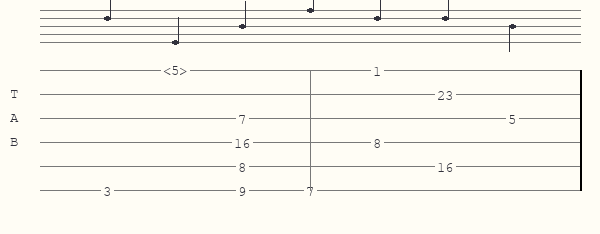1: (373, 64, 385, 77)
16: (234, 136, 254, 149), (437, 160, 457, 173)
23: (437, 88, 457, 101)
3: (103, 184, 115, 197)
5: (508, 112, 520, 125)
7: (238, 112, 250, 125), (306, 184, 318, 197)
8: (238, 160, 250, 173), (373, 136, 385, 149)
9: (238, 184, 250, 197)
harmonic: (163, 63, 191, 77)
